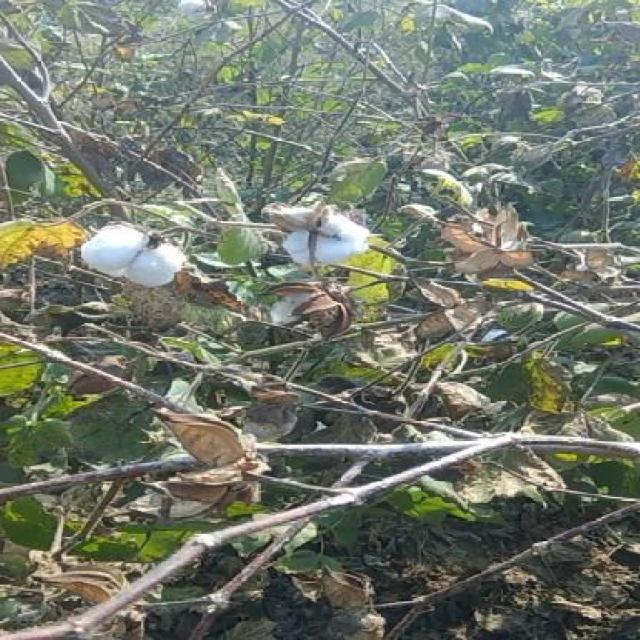cotton_ready: (48, 215, 192, 311), (278, 198, 414, 292)
